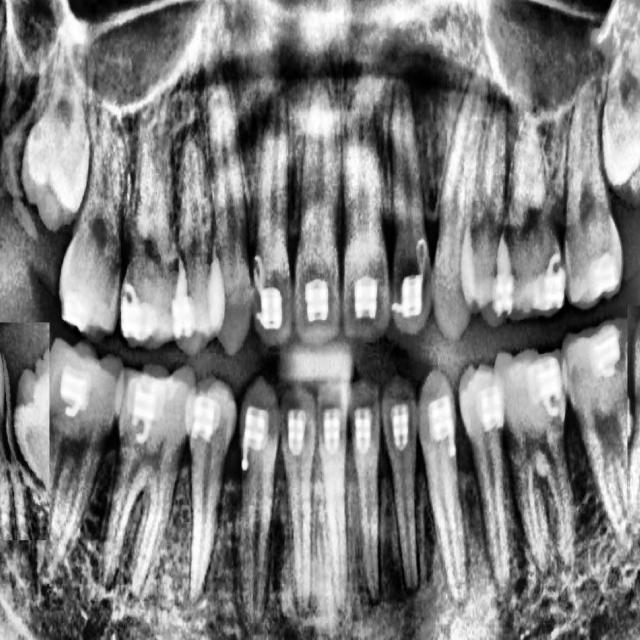Impacted Tooth: (0, 322, 49, 540), (627, 305, 640, 523)
